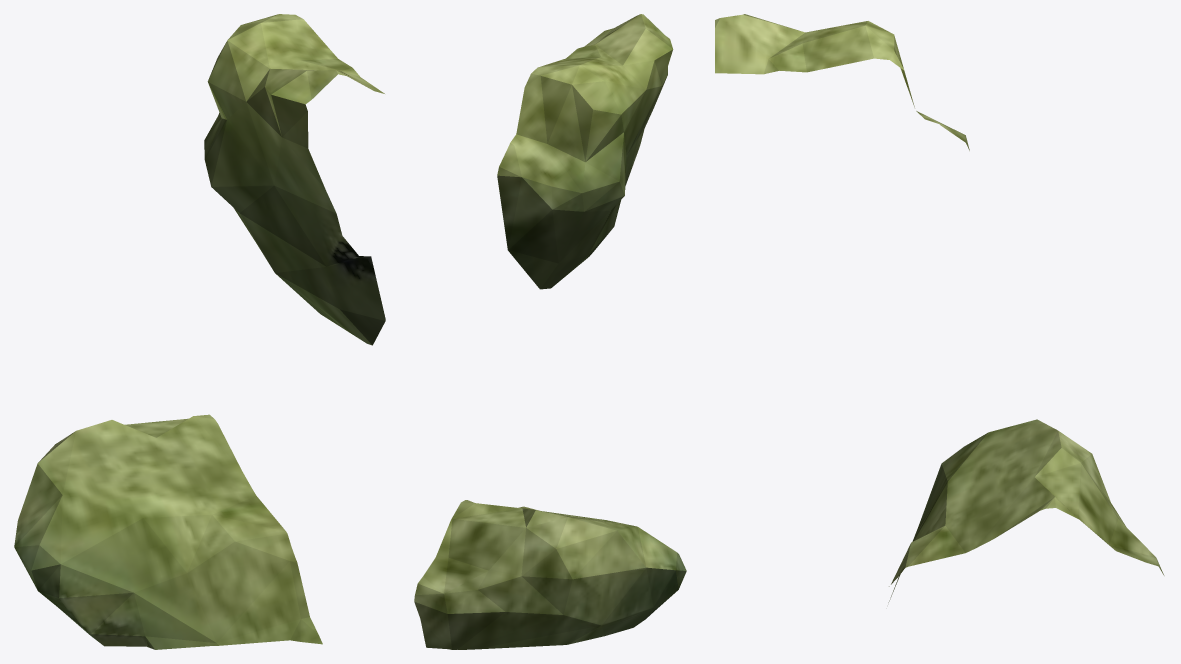
3 views of the same model, side by side, from view 1: azimuth 30°, elevation 25°; view 2: azimuth 150°, elevation 25°; view 3: azimuth 270°, elevation 25° (orthographic). The views are drawn at different scales.
Bounding box in the file's own units: 0.7995 × 2.1 × 1.41.
1 material, 1 textured.
